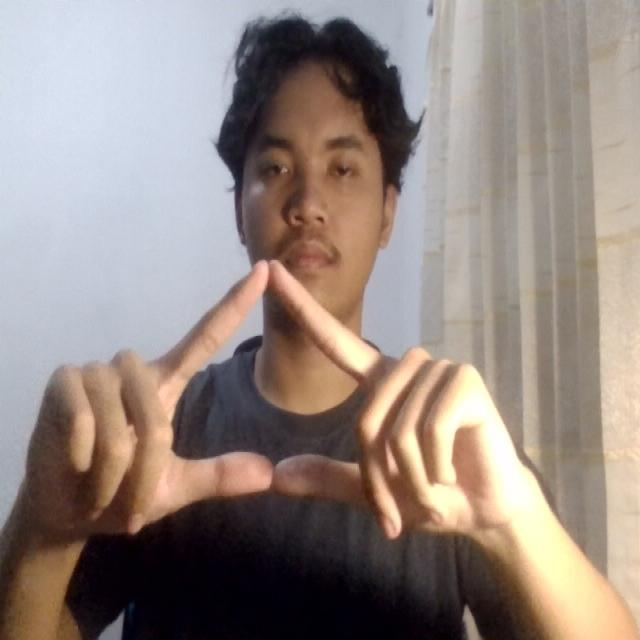A: (17, 247, 511, 552)
